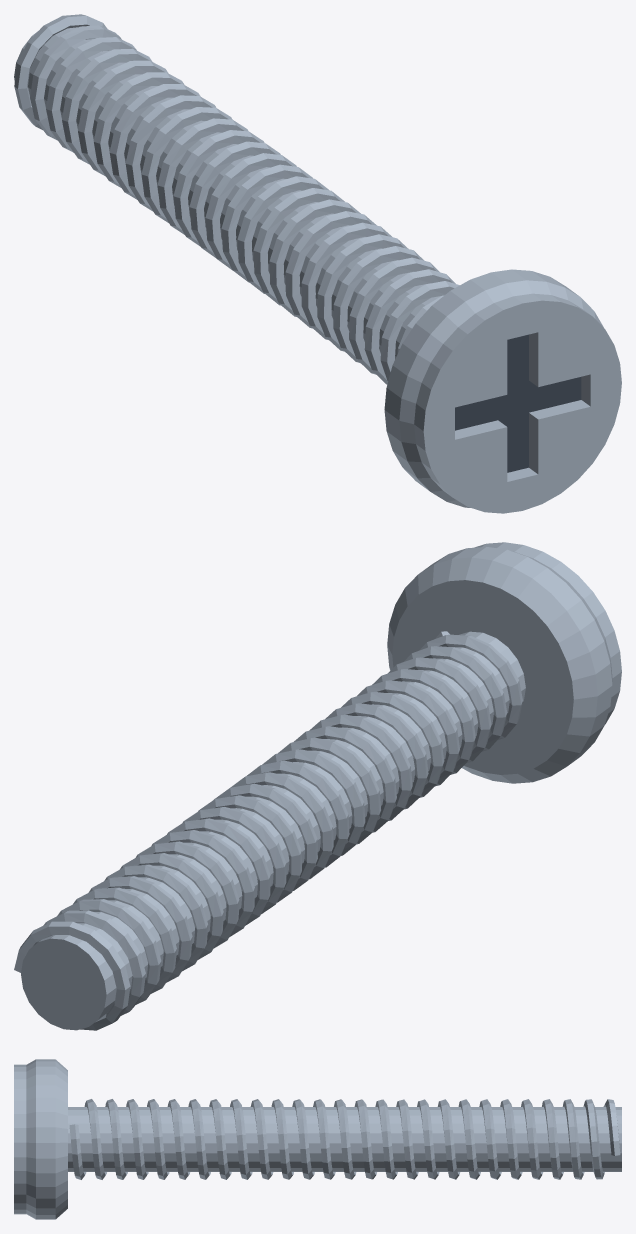
File: screw_20mm.obj
3 renders of one model, top to bottom at view 1: azimuth 30°, elevation 25°; view 2: azimuth 150°, elevation 25°; view 3: azimuth 270°, elevation 25°, orthographic. The views are drawn at different scales.
Visible parts, largest first — view 1: screw_20mm; view 2: screw_20mm; view 3: screw_20mm.
Part boxes in pixels (<box>): screw_20mm: <box>14,14,621,513</box>; screw_20mm: <box>14,542,621,1030</box>; screw_20mm: <box>14,1059,621,1219</box>.
Bounding box in the file's own units: 0.5285 × 0.5285 × 2.
